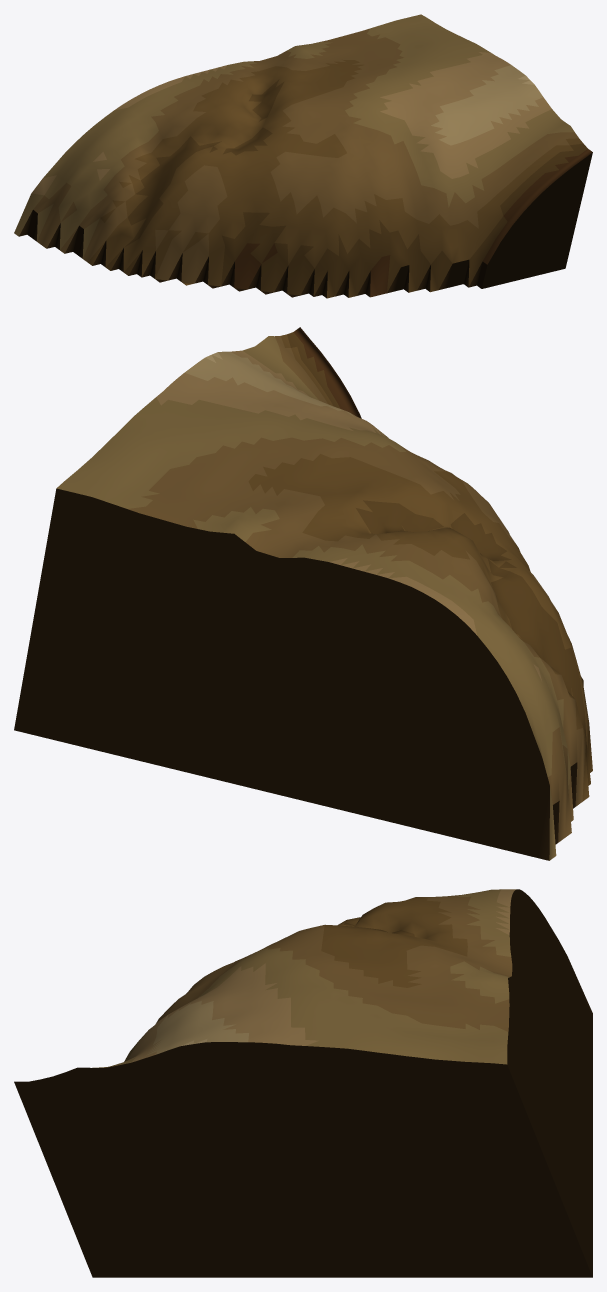
The model's file is tan_crater_bl.glb.
The picture shows the model from 3 angles, top to bottom: view 1: azimuth 30°, elevation 25°; view 2: azimuth 150°, elevation 25°; view 3: azimuth 270°, elevation 25°; orthographic projection. The views are drawn at different scales.
Parts seen in each view (by area): view 1: tan_crater_bl; view 2: tan_crater_bl; view 3: tan_crater_bl.
Boxes of the visible parts, box(x1,y1,x2,y2) form: tan_crater_bl: box(14, 14, 592, 298); tan_crater_bl: box(14, 327, 592, 860); tan_crater_bl: box(14, 889, 592, 1277).
Bounding box in the file's own units: 22.5 × 9.36 × 20.83.
